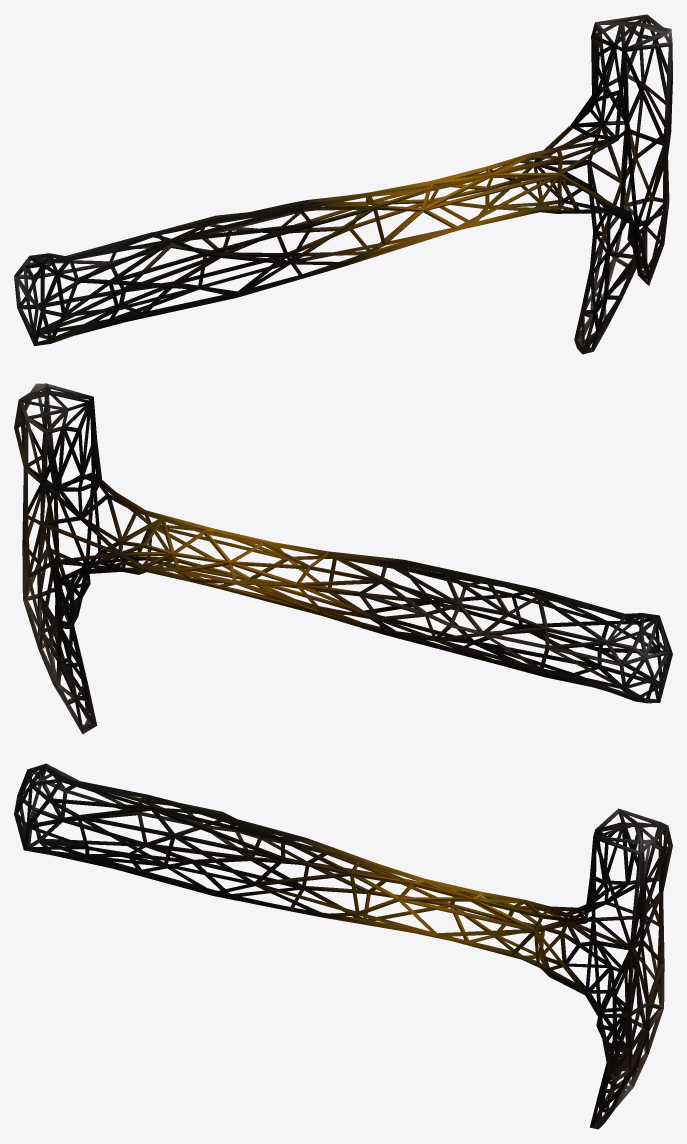
File: hammer2.dae
The picture shows the model from 3 angles, top to bottom: view 1: azimuth 30°, elevation 25°; view 2: azimuth 150°, elevation 25°; view 3: azimuth 330°, elevation 25°; orthographic projection.
Parts seen in each view (by area): view 1: node; view 2: node; view 3: node.
Boxes of the visible parts, x1=… form: node: x1=14, y1=14, x2=672, y2=354; node: x1=14, y1=383, x2=672, y2=734; node: x1=14, y1=763, x2=672, y2=1129.
Bounding box in the file's own units: 54.34 × 26.29 × 6.67.
